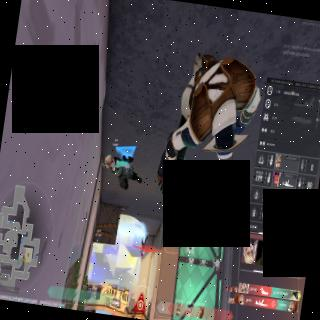ENEMY-BODY: (136, 230, 149, 260)
ENEMY-HEAD: (140, 254, 142, 260)
